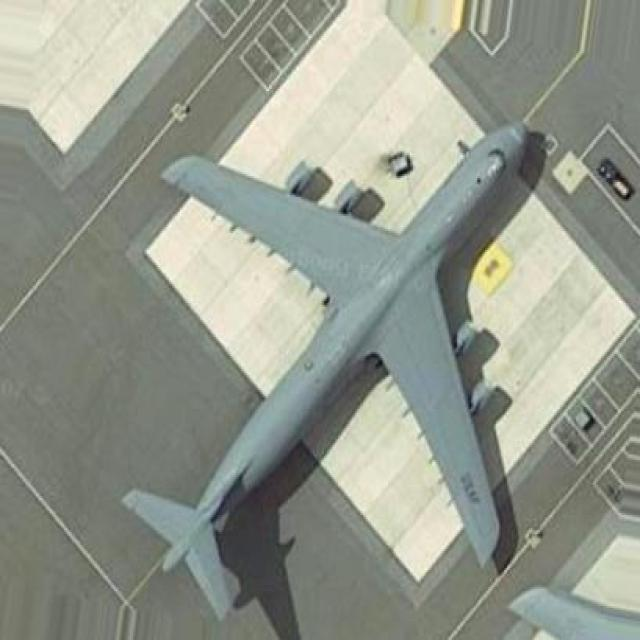C-5_TopDown: (119, 117, 548, 621)
